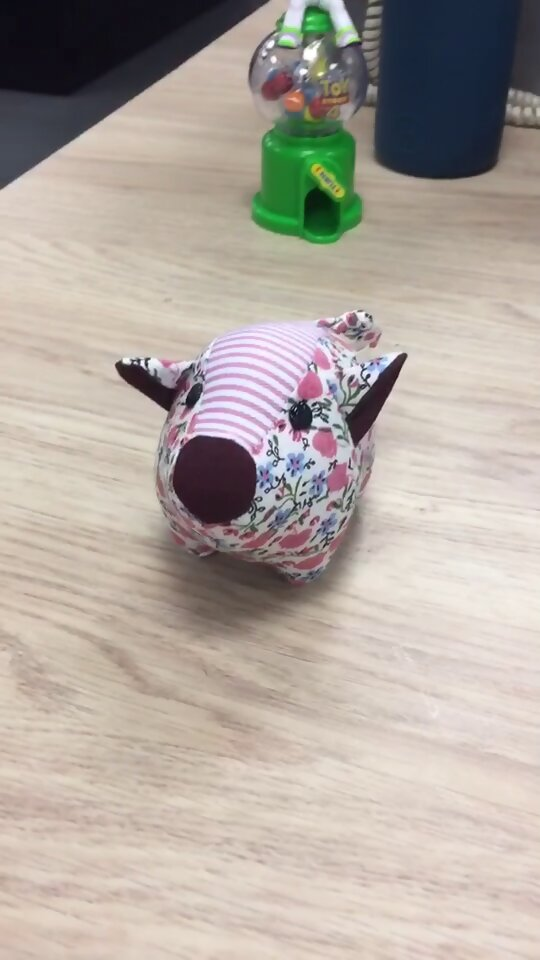pig: (113, 304, 412, 586)
